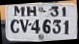character: (19, 18, 29, 33), (9, 19, 19, 33), (30, 19, 40, 33), (42, 18, 51, 33), (52, 19, 61, 34), (13, 5, 24, 17), (26, 6, 37, 16), (50, 5, 59, 17), (62, 19, 69, 34), (61, 6, 67, 17)
